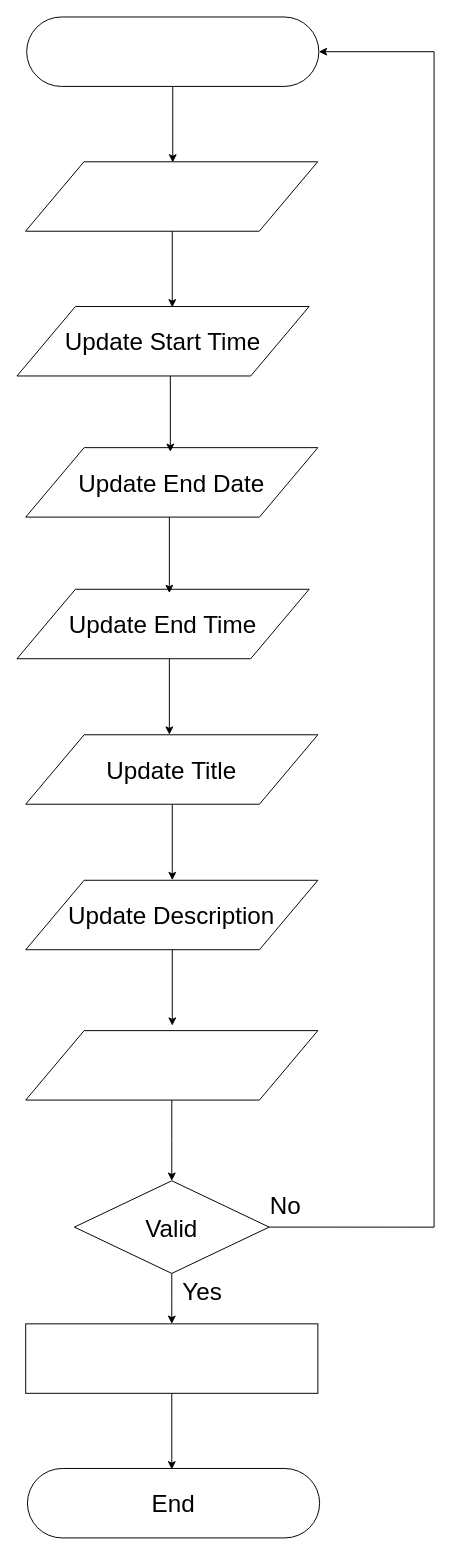
Image size: 459x1555. Some labels were removed from this diagram. Here are the shapes that lost their labels. From the top down, the box of each, then its label:
(26, 16, 319, 86): Start
(25, 161, 318, 231): Update Start Date
(25, 1030, 318, 1100): Update Expense
(25, 1323, 318, 1393): Updated Event Successfully
